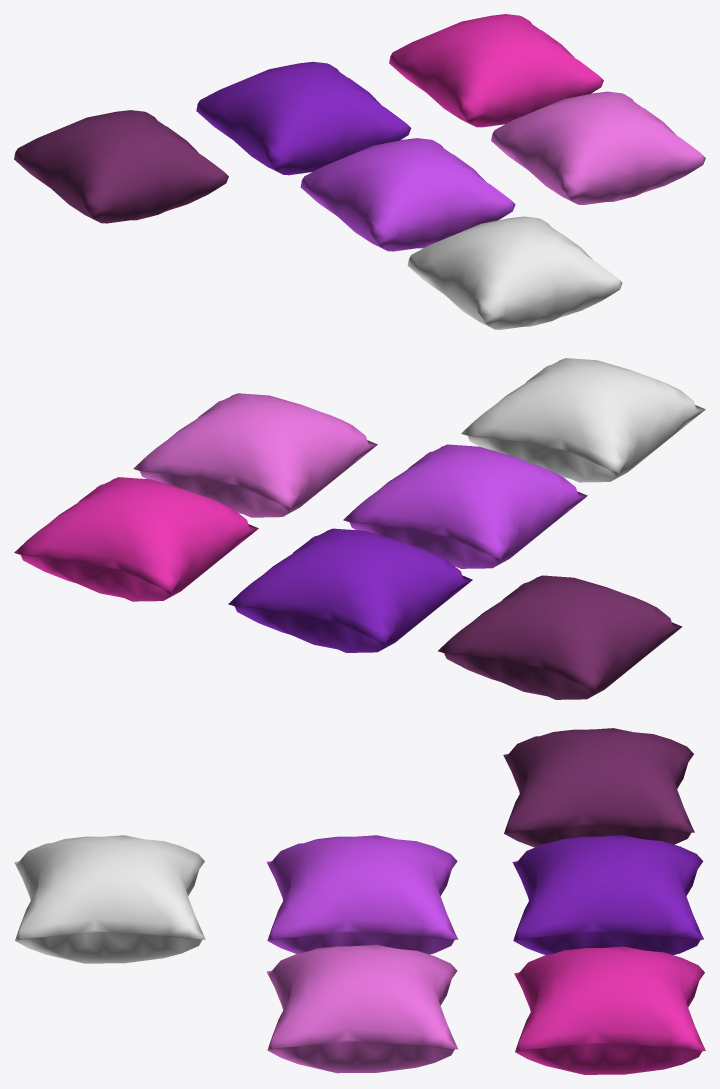
File: PillowLowPoly.fbx
3 renders of one model, top to bottom at view 1: azimuth 30°, elevation 25°; view 2: azimuth 150°, elevation 25°; view 3: azimuth 270°, elevation 25°, orthographic. The views are drawn at different scales.
Parts seen in each view (by area): view 1: Pillow_4, Pillow_Base, Pillow_5, Pillow_1, Pillow_6, Pillow_2; view 2: Pillow_6, Pillow_4, Pillow_2, Pillow_Base, Pillow_5, Pillow_1; view 3: Pillow_Base, Pillow_6, Pillow_5, Pillow_2, Pillow_1, Pillow_4.
Boxes of the visible parts, bbox=[...] form: Pillow_4: bbox=[14, 110, 228, 223]; Pillow_Base: bbox=[407, 216, 622, 329]; Pillow_5: bbox=[491, 91, 705, 204]; Pillow_1: bbox=[300, 138, 515, 251]; Pillow_6: bbox=[389, 14, 603, 127]; Pillow_2: bbox=[196, 61, 411, 175]; Pillow_6: bbox=[14, 477, 258, 601]; Pillow_4: bbox=[438, 575, 682, 699]; Pillow_2: bbox=[228, 528, 472, 652]; Pillow_Base: bbox=[461, 358, 705, 482]; Pillow_5: bbox=[133, 393, 377, 517]; Pillow_1: bbox=[343, 444, 587, 568]; Pillow_Base: bbox=[14, 835, 205, 963]; Pillow_6: bbox=[514, 946, 705, 1074]; Pillow_5: bbox=[267, 944, 457, 1073]; Pillow_2: bbox=[512, 835, 703, 955]; Pillow_1: bbox=[266, 835, 458, 954]; Pillow_4: bbox=[503, 728, 694, 847].
Size of the model in its own units: 1575 by 256 by 1538.
